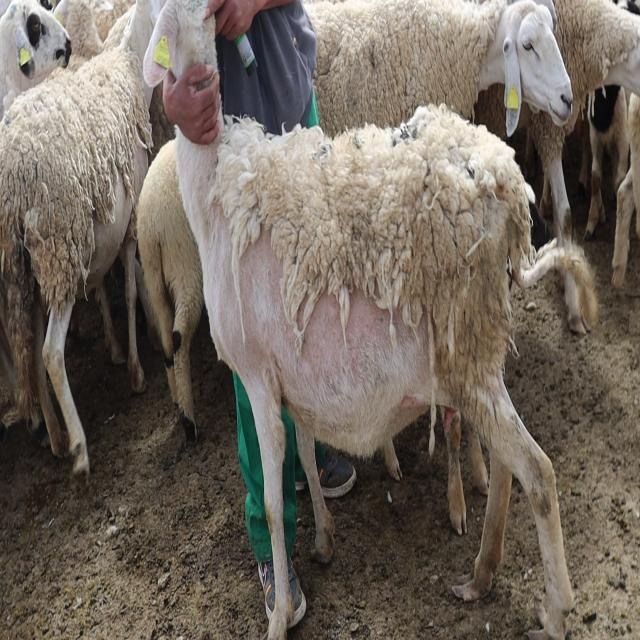Score_2: (176, 105, 573, 639)
